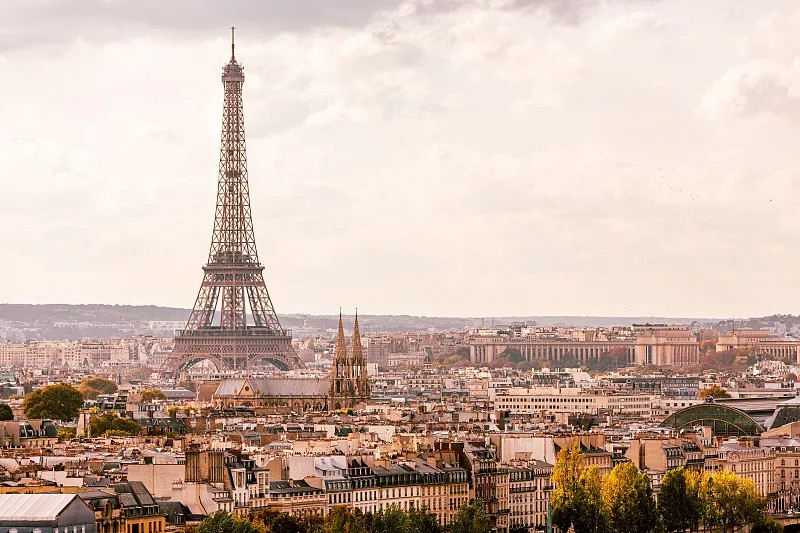Eiffel: (159, 26, 304, 370)
